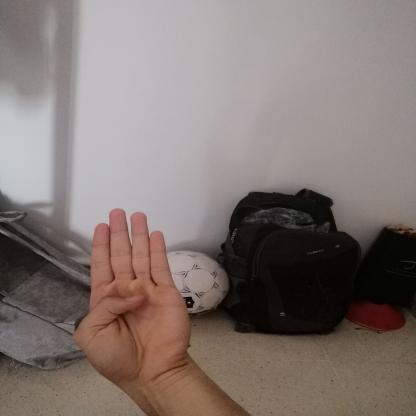KAAF: (62, 198, 206, 396)
